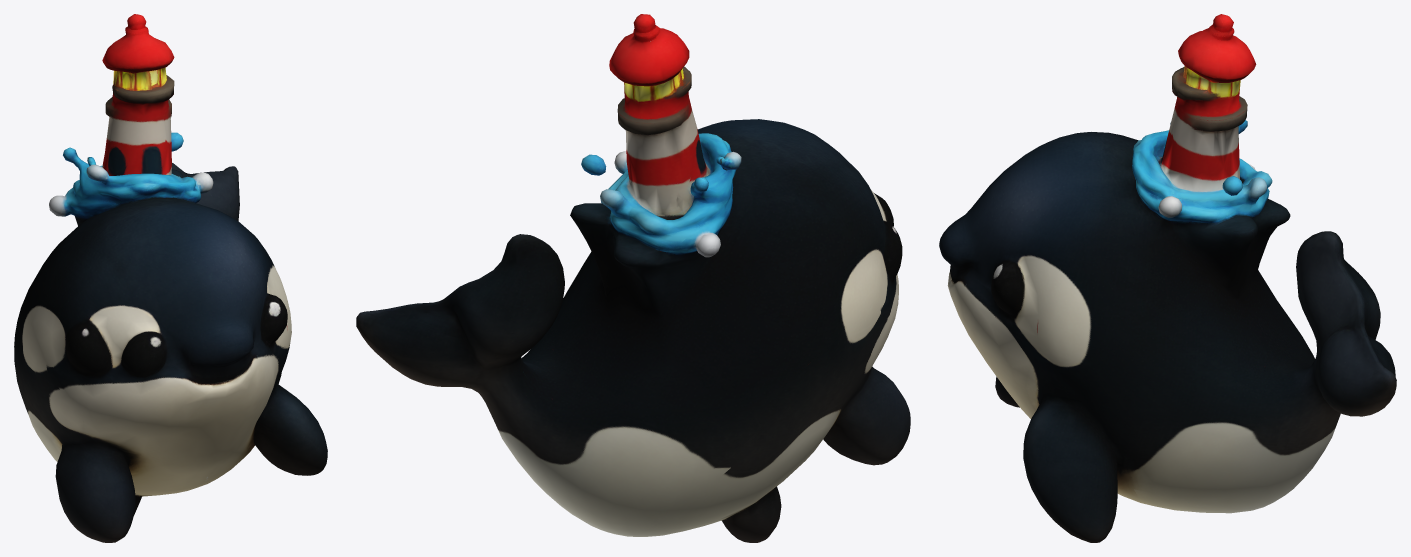
Rendered from beacon_orca.glb.
3 renders of one model, left to right at view 1: azimuth 30°, elevation 25°; view 2: azimuth 150°, elevation 25°; view 3: azimuth 270°, elevation 25°, orthographic. The views are drawn at different scales.
Parts seen in each view (by area): view 1: beacon_orca; view 2: beacon_orca; view 3: beacon_orca.
Part boxes in pixels (left/top/right/bottom): beacon_orca: left=14, top=14, right=327, bottom=542; beacon_orca: left=356, top=14, right=910, bottom=542; beacon_orca: left=939, top=14, right=1396, bottom=542.
Bounding box in the file's own units: 0.7232 × 1 × 0.8145.
1 material, 1 textured.
